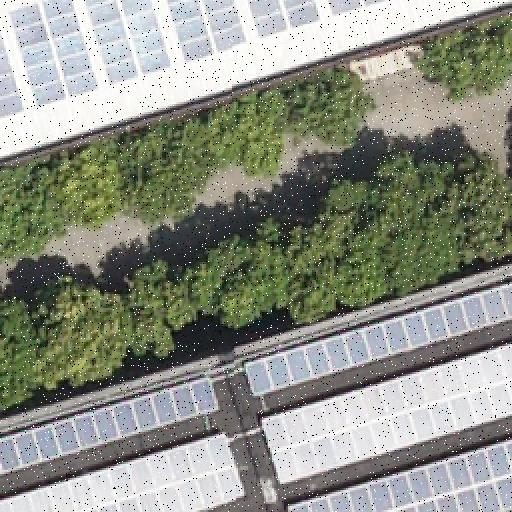solar-panel: (257, 342, 511, 486), (241, 281, 511, 399), (0, 379, 220, 477), (1, 432, 247, 512), (288, 440, 512, 512), (8, 0, 100, 108), (84, 1, 172, 87), (167, 1, 249, 63), (246, 1, 322, 39), (0, 24, 26, 120), (328, 0, 388, 16)
